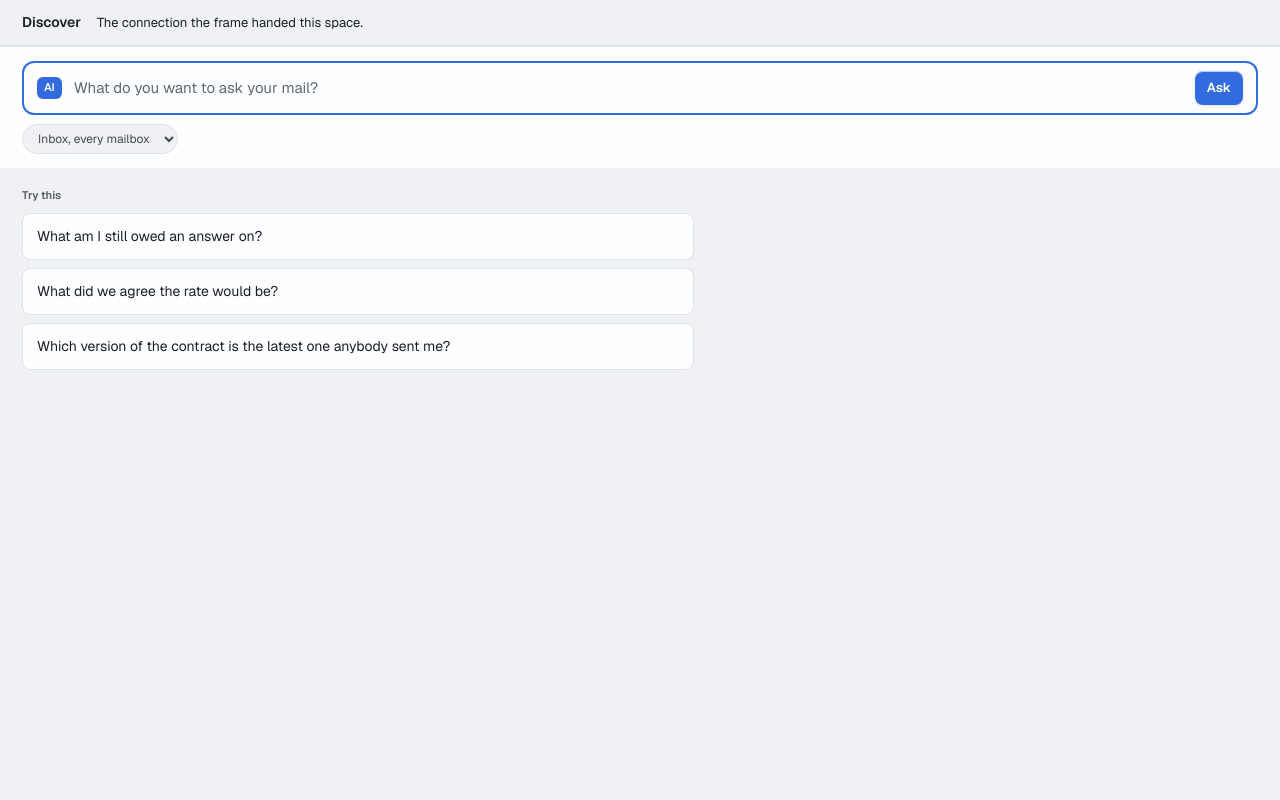
Test: DiscoverSpace › offers what was asked before only while no run is answering
Click the button "What am I still owed an answer on?" at (150, 236), box [22,213,694,260]
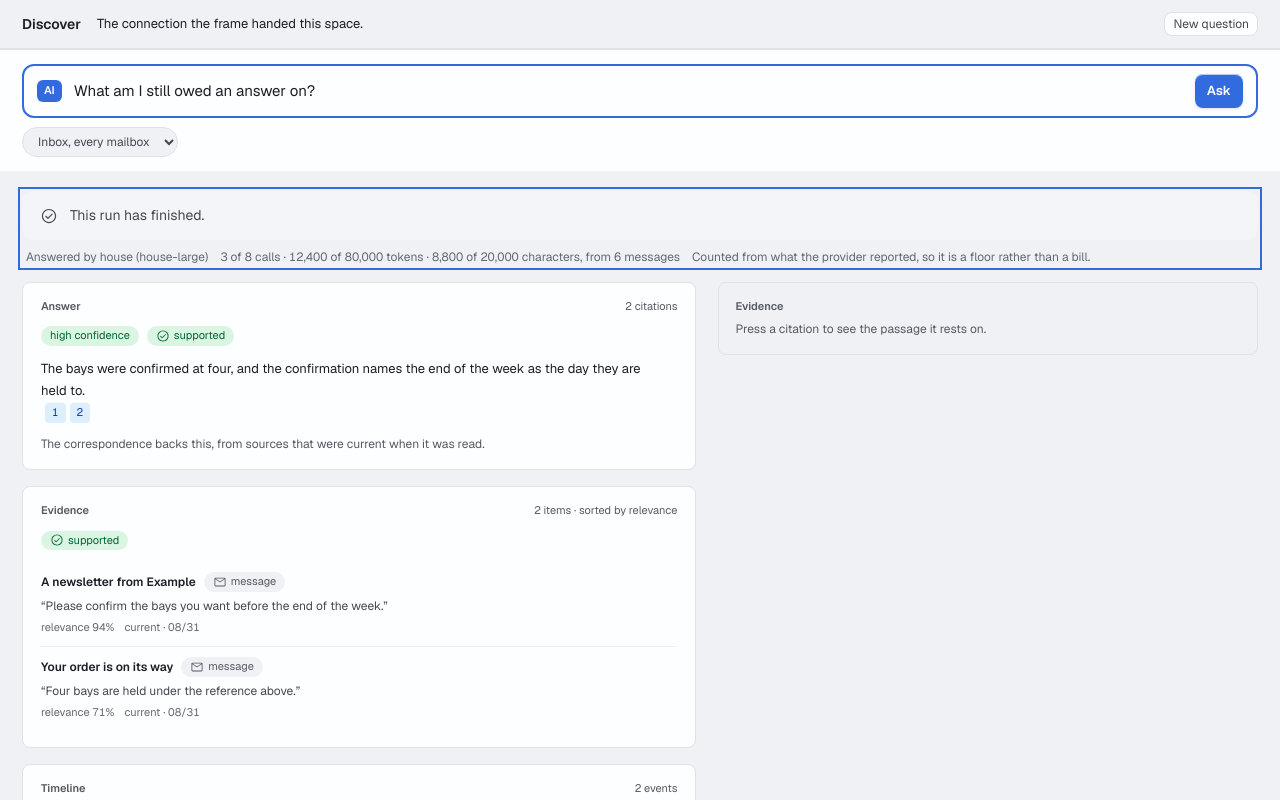
Expected: the list "Asked before" is not shown
Result: the text "The bays were confirmed at four" is shown at [41,360,641,398]
Click the button "New question" at (1211, 24), box [1164,12,1258,36]
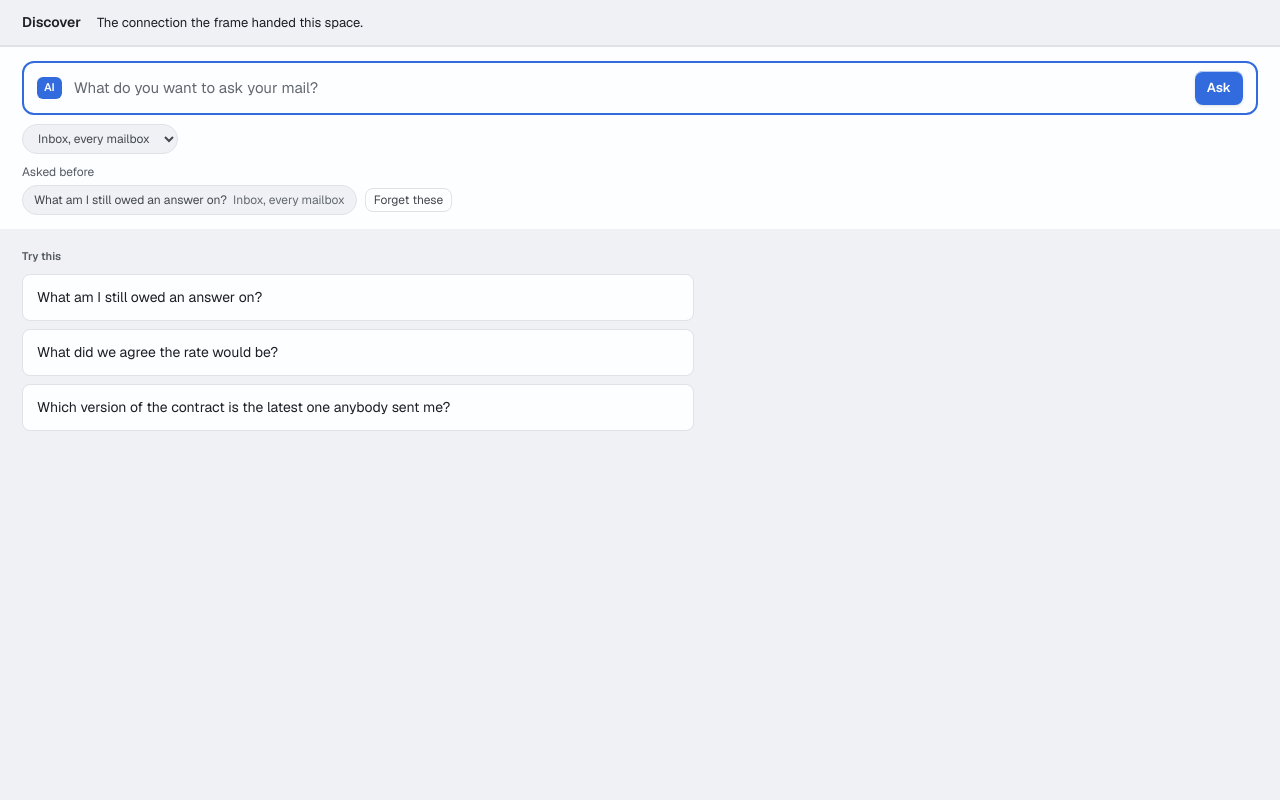
Result: the list named "Asked before" is shown at [22,184,452,214]
